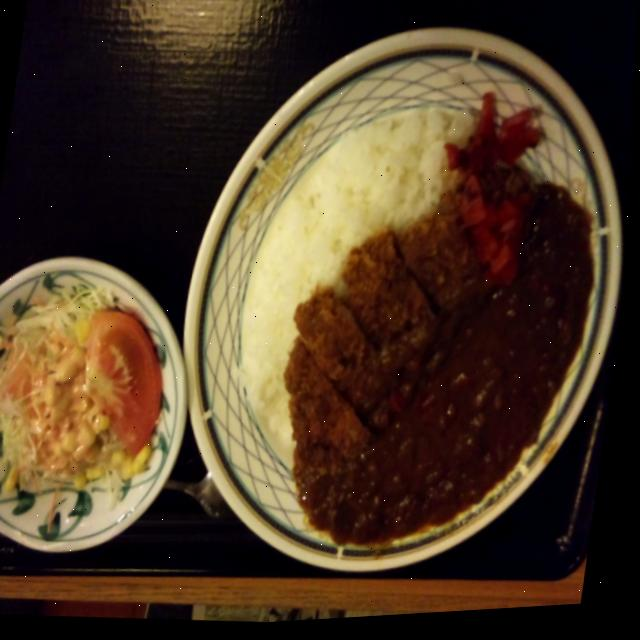猪肉菜式: (113, 315, 400, 613)
蔬菜料理: (0, 437, 112, 589)
